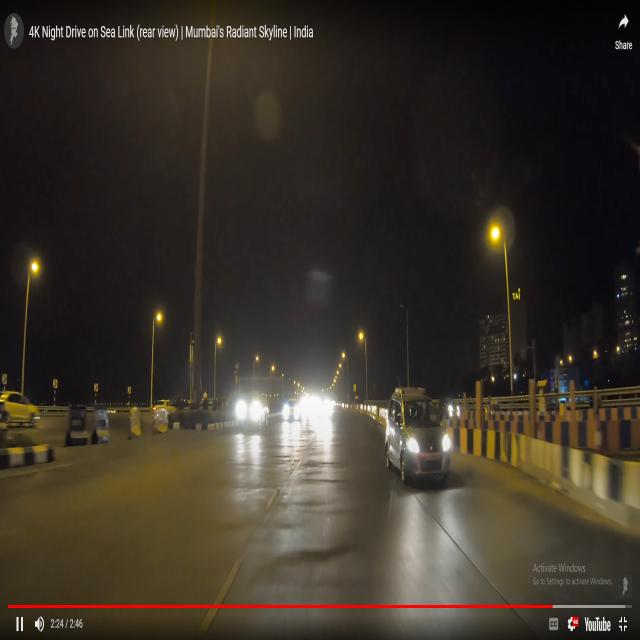headlights: (404, 430, 458, 464)
